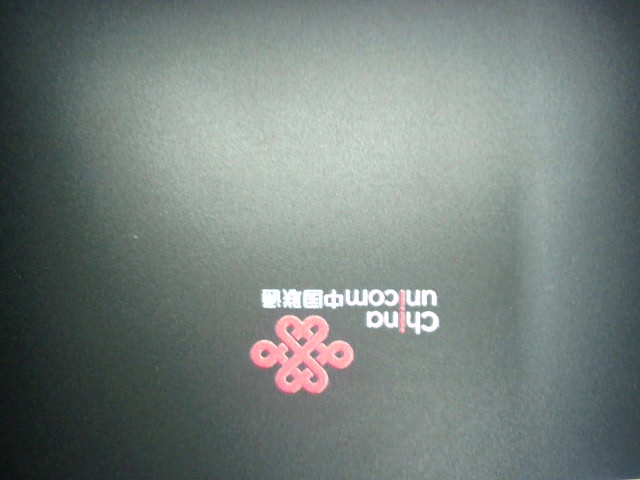AC_ChinaUnicom: (235, 279, 441, 396)
